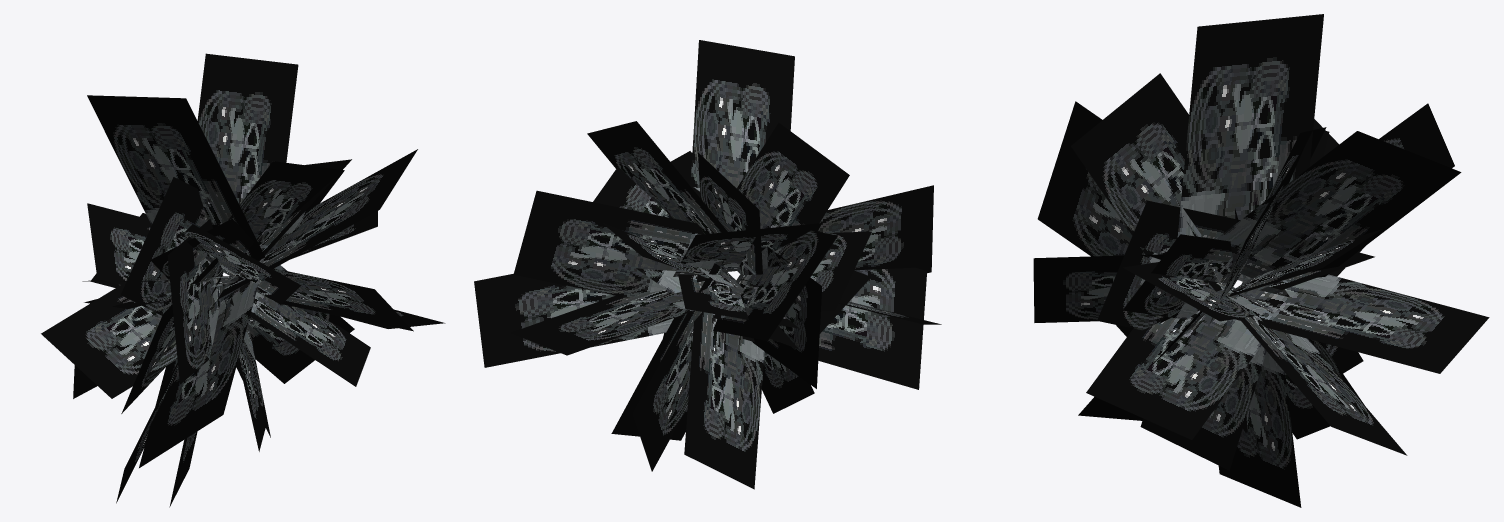
The model's file is BallLightRays_SM.glb.
The picture shows the model from 3 angles, left to right: view 1: azimuth 30°, elevation 25°; view 2: azimuth 150°, elevation 25°; view 3: azimuth 270°, elevation 25°; orthographic projection. The views are drawn at different scales.
Parts seen in each view (by area): view 1: BallLightRays_SM; view 2: BallLightRays_SM; view 3: BallLightRays_SM.
Part boxes in pixels (x1=…): BallLightRays_SM: x1=41, y1=53, x2=445, y2=507; BallLightRays_SM: x1=474, y1=40, x2=941, y2=489; BallLightRays_SM: x1=1033, y1=14, x2=1489, y2=507.
Size of the model in its own units: 24.53 by 26.49 by 24.41.
1 material, 1 textured.
